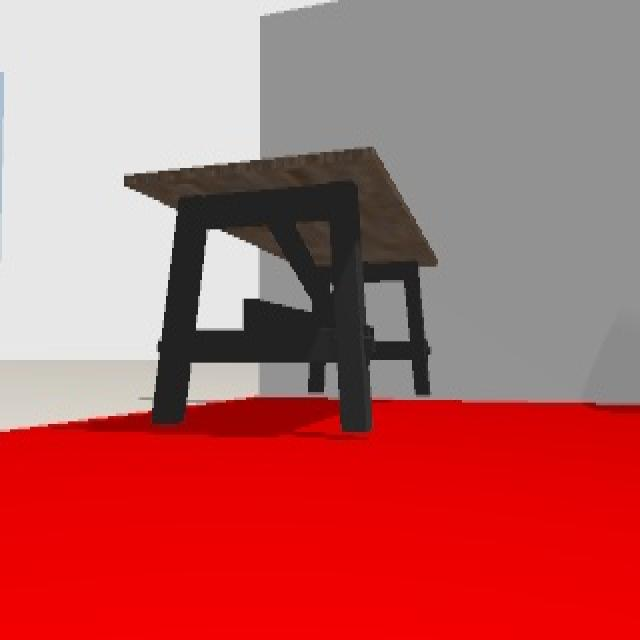dining: (121, 146, 440, 430)
